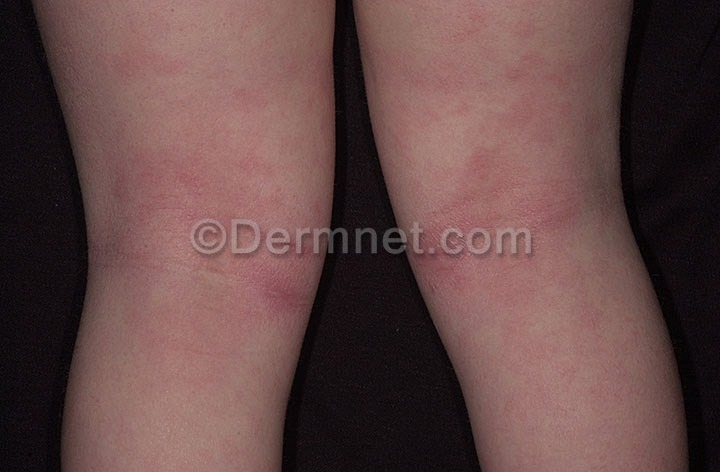Eczema: (363, 4, 658, 468), (52, 4, 327, 387)
